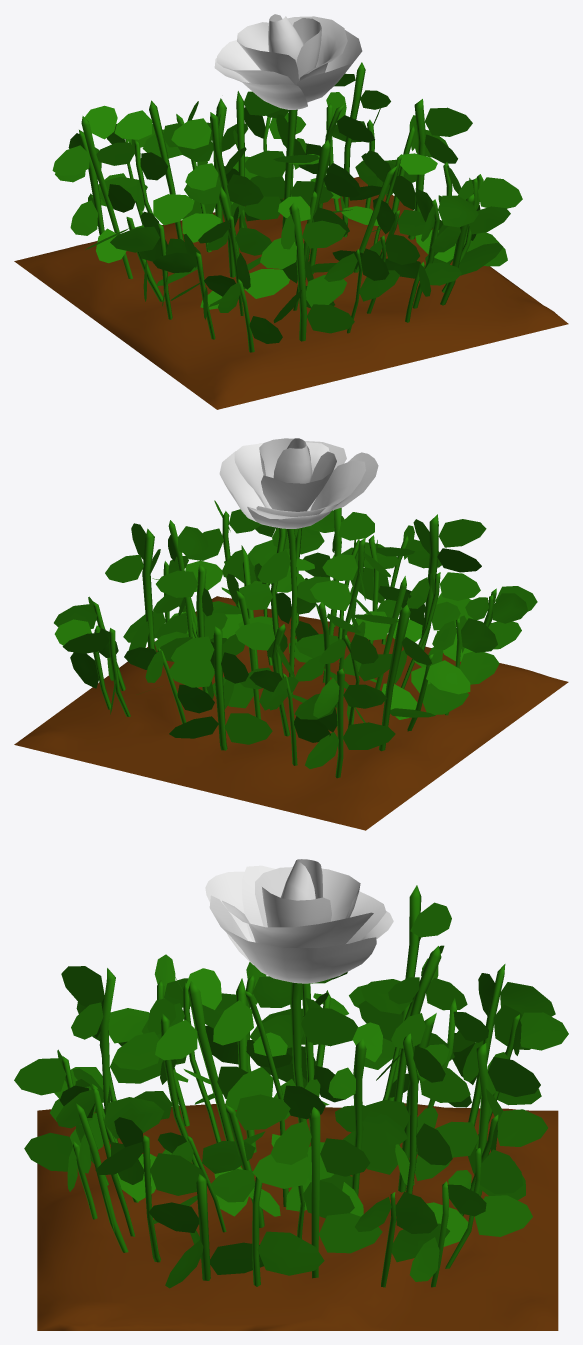
The model's file is white-rose-p2-bloom.glb.
3 views of the same model, one above another, from view 1: azimuth 30°, elevation 25°; view 2: azimuth 150°, elevation 25°; view 3: azimuth 270°, elevation 25° (orthographic). The views are drawn at different scales.
Visible parts, largest first — view 1: 2_nft_bloom; view 2: 2_nft_bloom; view 3: 2_nft_bloom.
Boxes of the visible parts, x1,y1,x2,y2 form: 2_nft_bloom: [14, 14, 568, 409]; 2_nft_bloom: [14, 438, 568, 830]; 2_nft_bloom: [14, 859, 568, 1330].
Bounding box in the file's own units: 0.751 × 0.5266 × 0.7455.
